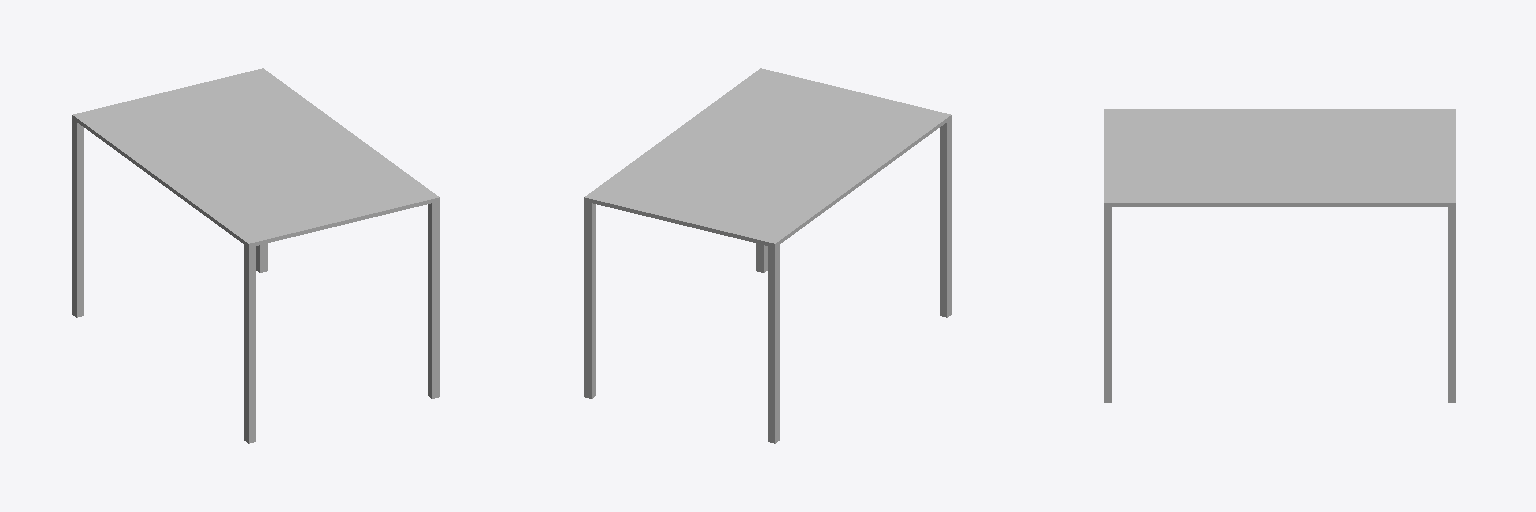
The model's file is shelf.obj.
3 views of the same model, side by side, from view 1: azimuth 30°, elevation 25°; view 2: azimuth 150°, elevation 25°; view 3: azimuth 270°, elevation 25° (orthographic).
Parts seen in each view (by area): view 1: object 1; view 2: object 1; view 3: object 1.
Part boxes in pixels (x1,y1,x2,y2): object 1: (72,68,439,443); object 1: (584,68,951,443); object 1: (1104,109,1455,402).
Bounding box in the file's own units: 5 × 5 × 8.